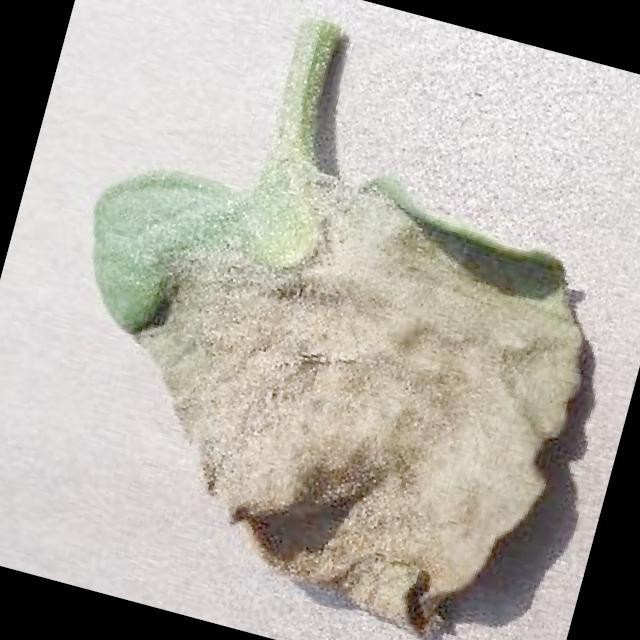Tomato late blight leaf: (6, 102, 622, 640)
